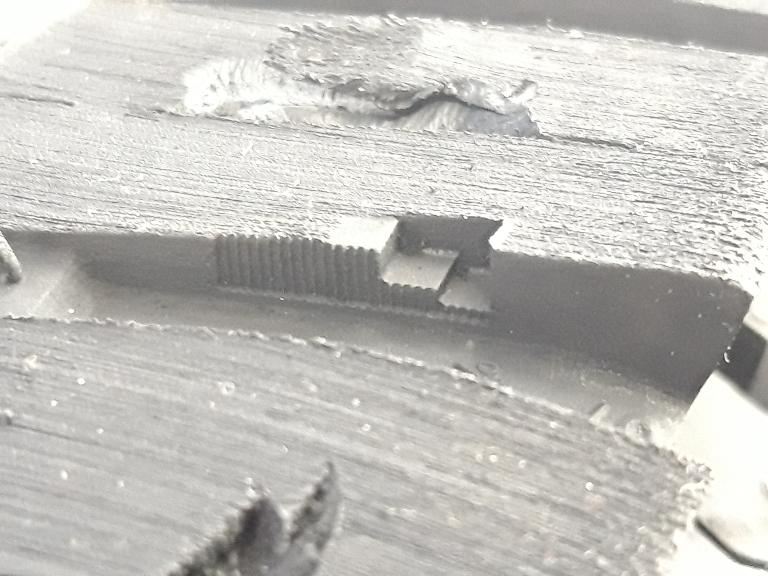temoin:50: (306, 200, 526, 344)
